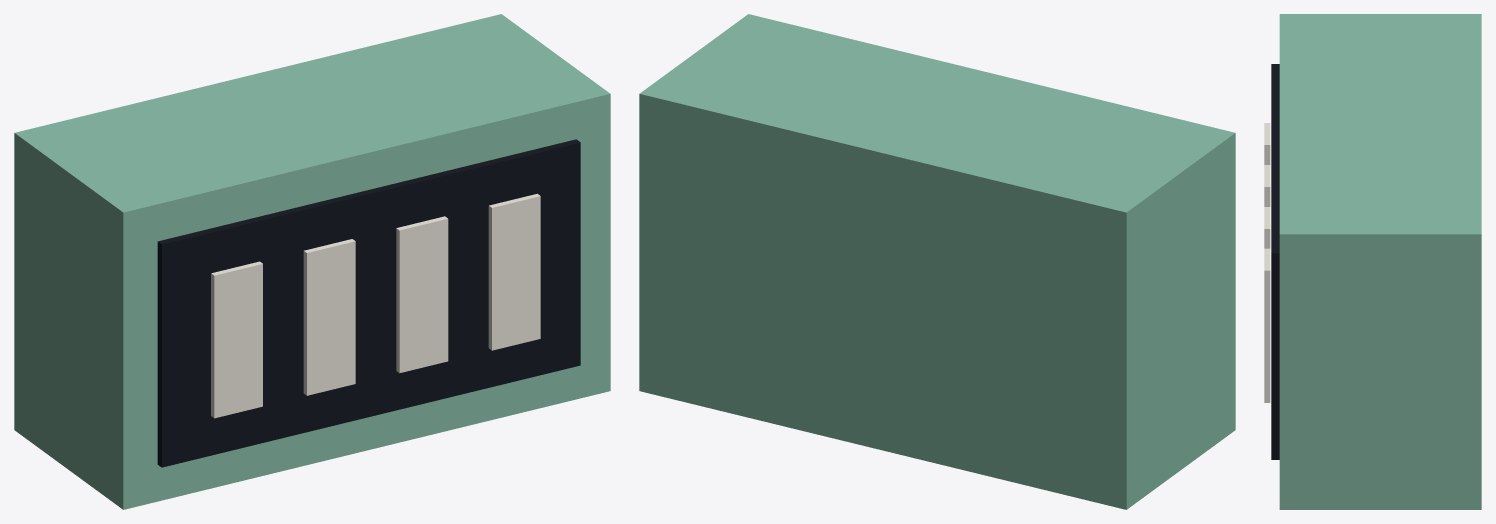
The model's file is desk-clock.glb.
3 views of the same model, side by side, from view 1: azimuth 30°, elevation 25°; view 2: azimuth 150°, elevation 25°; view 3: azimuth 270°, elevation 25° (orthographic). The views are drawn at different scales.
Parts seen in each view (by area): view 1: desk-clock; view 2: desk-clock; view 3: desk-clock.
Boxes of the visible parts, left/top/right/bottom form: desk-clock: left=14, top=14, right=610, bottom=509; desk-clock: left=639, top=14, right=1235, bottom=509; desk-clock: left=1264, top=14, right=1481, bottom=509.
Size of the model in its own units: 12 by 7 by 5.
